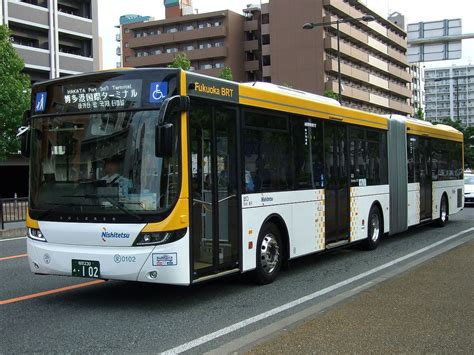bus: (27, 74, 462, 282)
